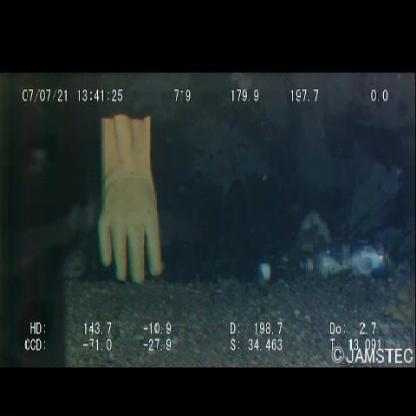Rác: (254, 244, 297, 296)
